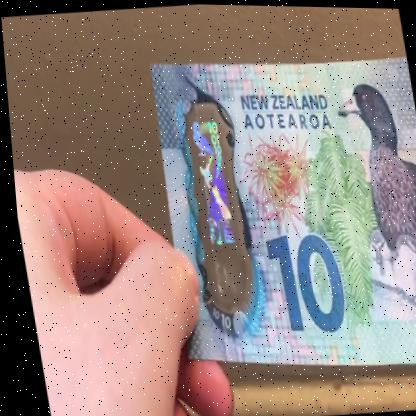10F: (183, 112, 245, 299)
